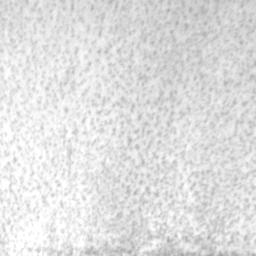Pitted surface: (0, 0, 256, 256), (88, 0, 105, 20), (102, 0, 131, 11)
